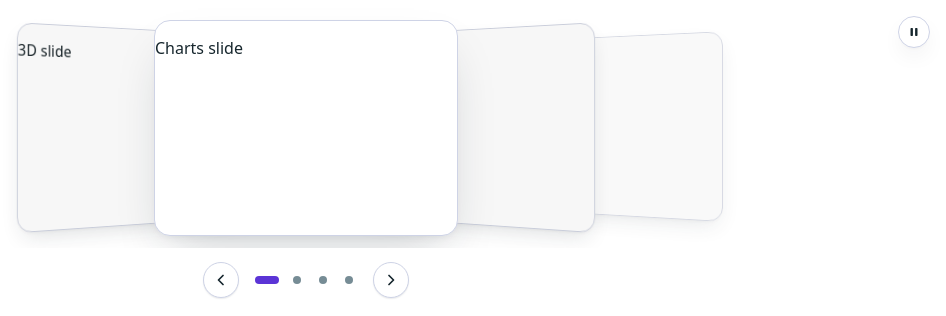
Carousel3D › puts a pause control first and turns autoplay off
Click the button named "Stop automatic slide show" at (914, 32), box x1=898 y1=16 x2=930 y2=48
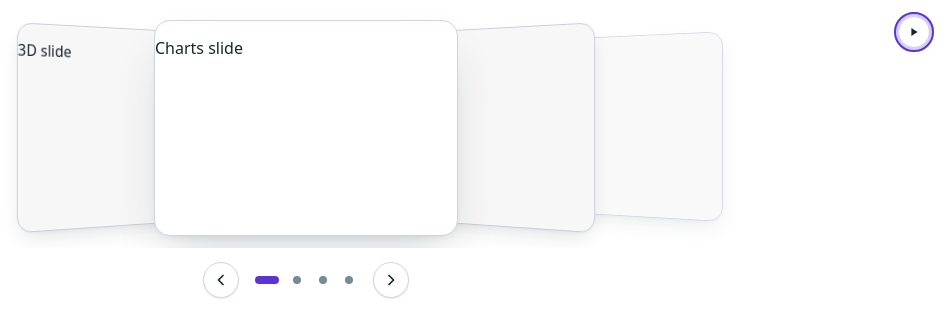
Expected: the button named "Start automatic slide show" is shown, x1=898 y1=16 x2=930 y2=48
